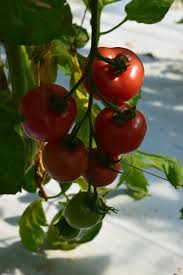tomato: (19, 87, 77, 142), (91, 50, 142, 102), (95, 105, 146, 155), (45, 138, 88, 183), (86, 149, 120, 189)
